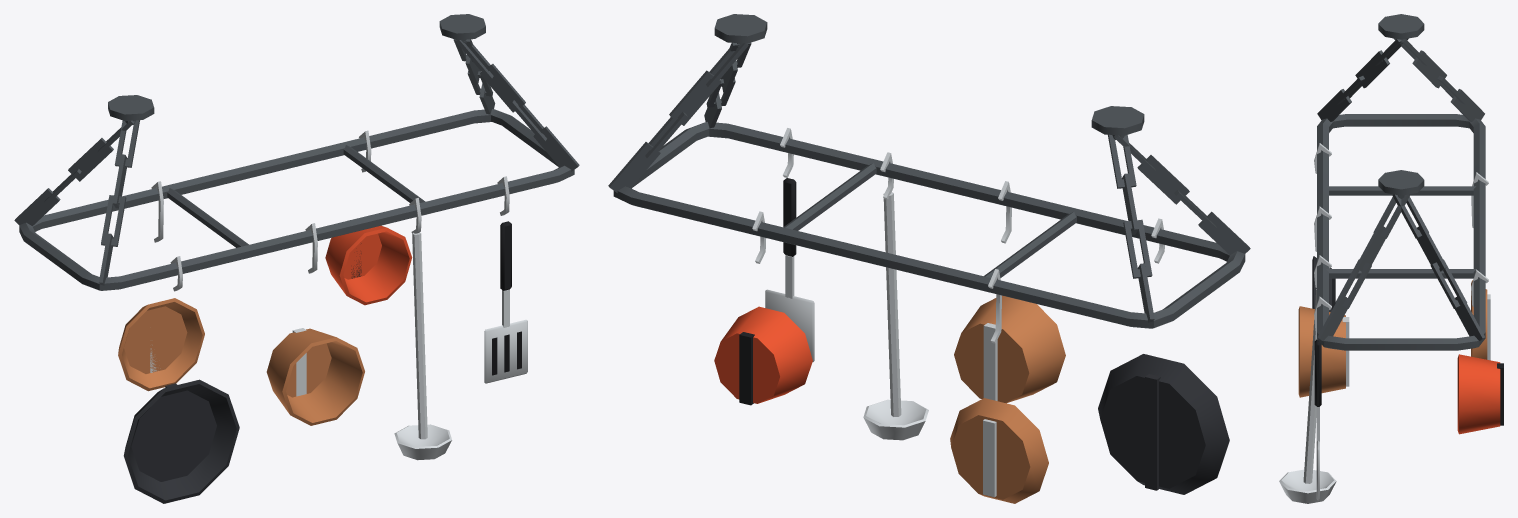
The model's file is Shop_PotRack.fbx.
3 views of the same model, side by side, from view 1: azimuth 30°, elevation 25°; view 2: azimuth 150°, elevation 25°; view 3: azimuth 270°, elevation 25° (orthographic). The views are drawn at different scales.
Visible parts, largest first — view 1: Rack, Copper, CastIron, Utensils, Enamel, Hooks, Handles, Slots; view 2: Rack, Copper, CastIron, Utensils, Enamel, Hooks, Handles; view 3: Rack, Utensils, Enamel, Copper, Hooks, Handles, CastIron.
Boxes of the visible parts, bbox=[...] form: Rack: bbox=[14, 14, 579, 290]; Copper: bbox=[118, 298, 364, 425]; CastIron: bbox=[123, 379, 239, 503]; Utensils: bbox=[150, 232, 527, 460]; Enamel: bbox=[325, 225, 412, 305]; Hooks: bbox=[151, 130, 509, 291]; Handles: bbox=[351, 221, 511, 290]; Slots: bbox=[492, 331, 521, 375]; Rack: bbox=[608, 14, 1250, 328]; Copper: bbox=[950, 295, 1065, 503]; CastIron: bbox=[1098, 354, 1229, 494]; Utensils: bbox=[765, 192, 997, 497]; Enamel: bbox=[714, 306, 812, 403]; Hooks: bbox=[752, 128, 1164, 343]; Handles: bbox=[739, 178, 796, 405]; Rack: bbox=[1317, 14, 1485, 350]; Utensils: bbox=[1279, 289, 1490, 503]; Enamel: bbox=[1457, 354, 1500, 434]; Copper: bbox=[1298, 280, 1487, 397]; Hooks: bbox=[1314, 143, 1488, 331]; Handles: bbox=[1314, 339, 1503, 425]; CastIron: bbox=[1312, 256, 1335, 312].
Bounding box in the file's own units: 470 × 347 × 195.
